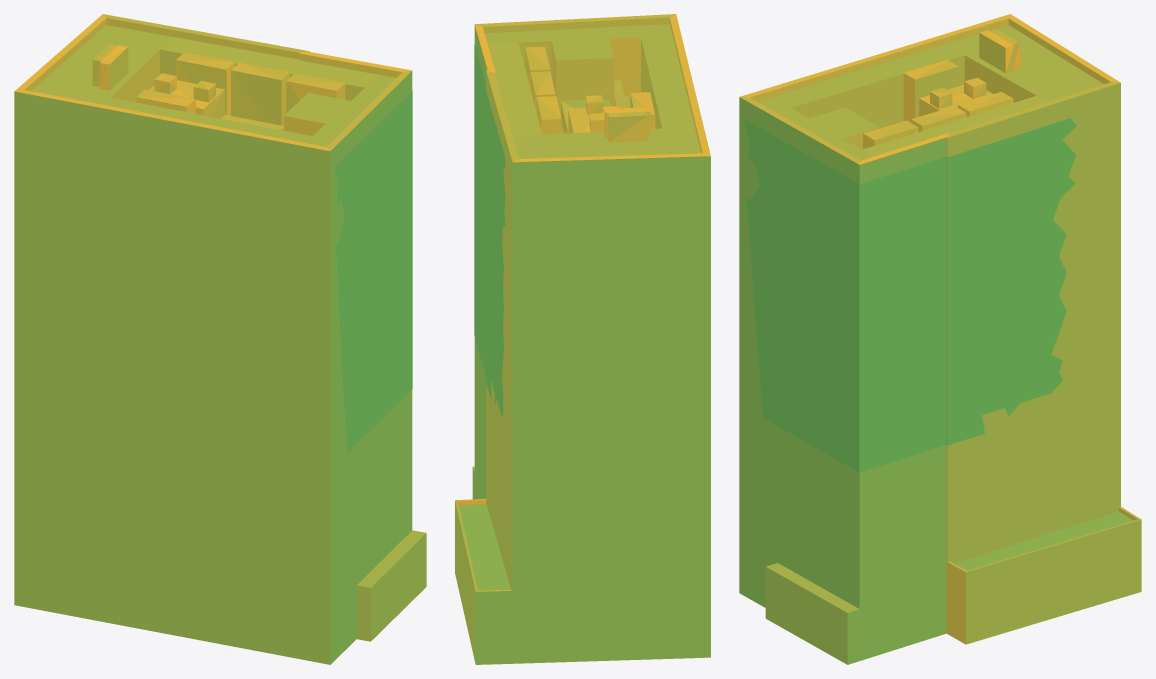
File: shinjuku-mitsui-no2-southeast-quality.glb
The picture shows the model from 3 angles, left to right: view 1: azimuth 30°, elevation 25°; view 2: azimuth 150°, elevation 25°; view 3: azimuth 270°, elevation 25°; orthographic projection. The views are drawn at different scales.
Parts seen in each view (by area): view 1: base-poly-4f7a8af7-de38-4f66-b947-091094f48250, quality-observed-poly-41d9f760-7633-42d7-b266-e70a0cab7342, base-poly-41d9f760-7633-42d7-b266-e70a0cab7342, base-poly-498341f8-9f05-4620-9125-95e9792914b1, base-poly-f915b166-3b5e-43f0-b6ee-a71786a93f44, base-poly-6ba1b4fd-eb52-4e66-baca-692e136916cd, base-fme-gen-7607814d-7cd4-4f05-99d3-5beabc5983e7, base-poly-5d38a921-39f6-4272-96cc-eff12776a498, base-poly-37e15c87-7f13-47eb-8ce2-b513c00e3716, base-poly-e0420d55-75c2-40ce-8585-e11480a2204d, base-poly-b824faf9-97c6-4cb6-bbbf-a92f9c897a89, base-fme-gen-e2414ea3-c050-45bf-a749-cc3db8a07065 (+7 smaller); view 2: base-poly-8f6b1851-5649-4a31-9acd-ad50a79a2422, base-poly-498341f8-9f05-4620-9125-95e9792914b1, base-poly-8acbeef3-2647-45e4-9116-8a96c1fd851a, quality-observed-poly-8acbeef3-2647-45e4-9116-8a96c1fd851a, quality-observed-poly-e4fcd0b8-3915-4c3e-a8e9-8ce734546d3d, base-poly-f915b166-3b5e-43f0-b6ee-a71786a93f44, base-poly-b28106b4-e88d-4895-b02f-3446250e4307, base-poly-4421ca29-12b9-4cac-96c3-e0a85e705bf6, base-poly-e4fcd0b8-3915-4c3e-a8e9-8ce734546d3d, base-poly-18515a0b-18e2-4198-b722-383670561f31, base-poly-06e9e0d1-0fc0-4be2-9a68-c0bdb22e2852, base-poly-2a41b152-55cb-4410-8c70-79c26ef99060 (+7 smaller); view 3: base-poly-8acbeef3-2647-45e4-9116-8a96c1fd851a, quality-observed-poly-8acbeef3-2647-45e4-9116-8a96c1fd851a, quality-observed-poly-41d9f760-7633-42d7-b266-e70a0cab7342, base-poly-41d9f760-7633-42d7-b266-e70a0cab7342, quality-observed-poly-e4fcd0b8-3915-4c3e-a8e9-8ce734546d3d, base-poly-e4fcd0b8-3915-4c3e-a8e9-8ce734546d3d, base-poly-18515a0b-18e2-4198-b722-383670561f31, base-poly-498341f8-9f05-4620-9125-95e9792914b1, base-poly-6ba1b4fd-eb52-4e66-baca-692e136916cd, base-poly-408f2a03-7cf0-4233-bbf9-61597cfd9629, base-poly-b28106b4-e88d-4895-b02f-3446250e4307, base-poly-3519d115-dc78-4c6e-af6f-8ff0772a50f2 (+10 smaller).
Part boxes in pixels (x1=…): base-poly-4f7a8af7-de38-4f66-b947-091094f48250: x1=14, y1=91, x2=330, y2=664; quality-observed-poly-41d9f760-7633-42d7-b266-e70a0cab7342: x1=334, y1=91, x2=412, y2=452; base-poly-41d9f760-7633-42d7-b266-e70a0cab7342: x1=330, y1=71, x2=412, y2=664; base-poly-498341f8-9f05-4620-9125-95e9792914b1: x1=31, y1=25, x2=395, y2=146; base-poly-f915b166-3b5e-43f0-b6ee-a71786a93f44: x1=160, y1=37, x2=377, y2=87; base-poly-6ba1b4fd-eb52-4e66-baca-692e136916cd: x1=371, y1=533, x2=426, y2=640; base-fme-gen-7607814d-7cd4-4f05-99d3-5beabc5983e7: x1=231, y1=70, x2=281, y2=125; base-poly-5d38a921-39f6-4272-96cc-eff12776a498: x1=106, y1=18, x2=299, y2=59; base-poly-37e15c87-7f13-47eb-8ce2-b513c00e3716: x1=14, y1=90, x2=329, y2=150; base-poly-e0420d55-75c2-40ce-8585-e11480a2204d: x1=111, y1=50, x2=159, y2=102; base-poly-b824faf9-97c6-4cb6-bbbf-a92f9c897a89: x1=357, y1=530, x2=425, y2=587; base-fme-gen-e2414ea3-c050-45bf-a749-cc3db8a07065: x1=231, y1=70, x2=267, y2=122; base-poly-8f6b1851-5649-4a31-9acd-ad50a79a2422: x1=475, y1=156, x2=710, y2=664; base-poly-498341f8-9f05-4620-9125-95e9792914b1: x1=484, y1=24, x2=700, y2=158; base-poly-8acbeef3-2647-45e4-9116-8a96c1fd851a: x1=486, y1=71, x2=512, y2=589; quality-observed-poly-8acbeef3-2647-45e4-9116-8a96c1fd851a: x1=485, y1=90, x2=505, y2=415; quality-observed-poly-e4fcd0b8-3915-4c3e-a8e9-8ce734546d3d: x1=474, y1=44, x2=485, y2=373; base-poly-f915b166-3b5e-43f0-b6ee-a71786a93f44: x1=488, y1=42, x2=541, y2=135; base-poly-b28106b4-e88d-4895-b02f-3446250e4307: x1=459, y1=504, x2=510, y2=590; base-poly-4421ca29-12b9-4cac-96c3-e0a85e705bf6: x1=556, y1=58, x2=614, y2=114; base-poly-e4fcd0b8-3915-4c3e-a8e9-8ce734546d3d: x1=472, y1=25, x2=487, y2=499; base-poly-18515a0b-18e2-4198-b722-383670561f31: x1=455, y1=501, x2=475, y2=663; base-poly-06e9e0d1-0fc0-4be2-9a68-c0bdb22e2852: x1=610, y1=37, x2=640, y2=95; base-poly-2a41b152-55cb-4410-8c70-79c26ef99060: x1=483, y1=17, x2=669, y2=33; base-poly-8acbeef3-2647-45e4-9116-8a96c1fd851a: x1=947, y1=83, x2=1120, y2=563; quality-observed-poly-8acbeef3-2647-45e4-9116-8a96c1fd851a: x1=947, y1=118, x2=1076, y2=445; quality-observed-poly-41d9f760-7633-42d7-b266-e70a0cab7342: x1=744, y1=119, x2=859, y2=471; base-poly-41d9f760-7633-42d7-b266-e70a0cab7342: x1=739, y1=97, x2=859, y2=608; quality-observed-poly-e4fcd0b8-3915-4c3e-a8e9-8ce734546d3d: x1=860, y1=157, x2=946, y2=472; base-poly-e4fcd0b8-3915-4c3e-a8e9-8ce734546d3d: x1=847, y1=137, x2=946, y2=664; base-poly-18515a0b-18e2-4198-b722-383670561f31: x1=966, y1=519, x2=1141, y2=644; base-poly-498341f8-9f05-4620-9125-95e9792914b1: x1=757, y1=25, x2=1103, y2=160; base-poly-6ba1b4fd-eb52-4e66-baca-692e136916cd: x1=765, y1=567, x2=847, y2=664; base-poly-408f2a03-7cf0-4233-bbf9-61597cfd9629: x1=791, y1=55, x2=964, y2=128; base-poly-b28106b4-e88d-4895-b02f-3446250e4307: x1=954, y1=511, x2=1133, y2=570; base-poly-3519d115-dc78-4c6e-af6f-8ff0772a50f2: x1=946, y1=137, x2=965, y2=644.
Size of the model in its own units: 50.72 by 78.69 by 55.74.
